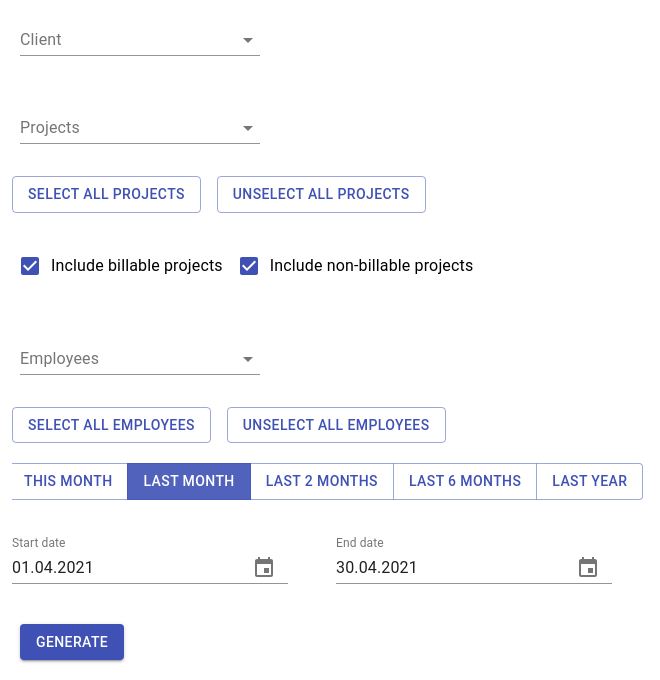
billing report form › empty form › has client select containing fetched clients
Expected: the text "Generate" is shown, [36,630,108,654]
Press the mouse on the button named "Client" next to "Client" at (140,40), box [20,24,260,56]
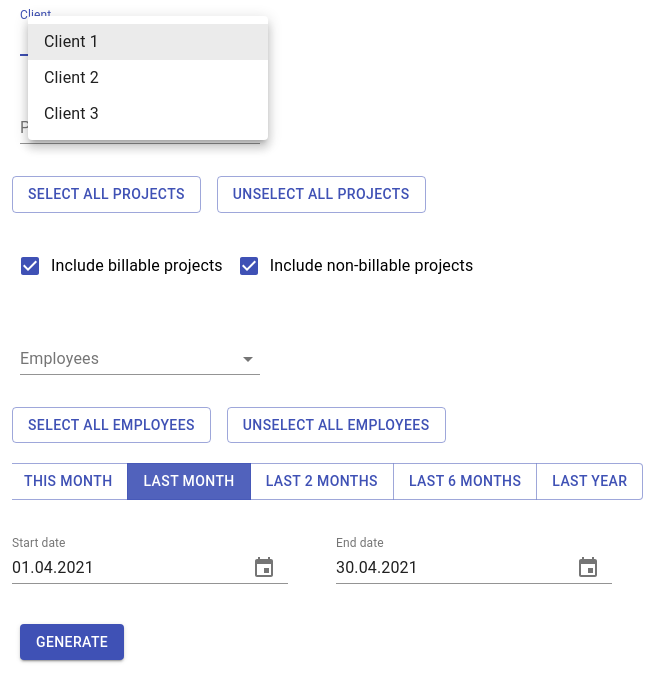
Result: the text "Client 1" is shown at [44,32,99,51]
Result: the text "Client 2" is shown at [44,68,99,87]
Result: the text "Client 3" is shown at [44,104,99,123]
